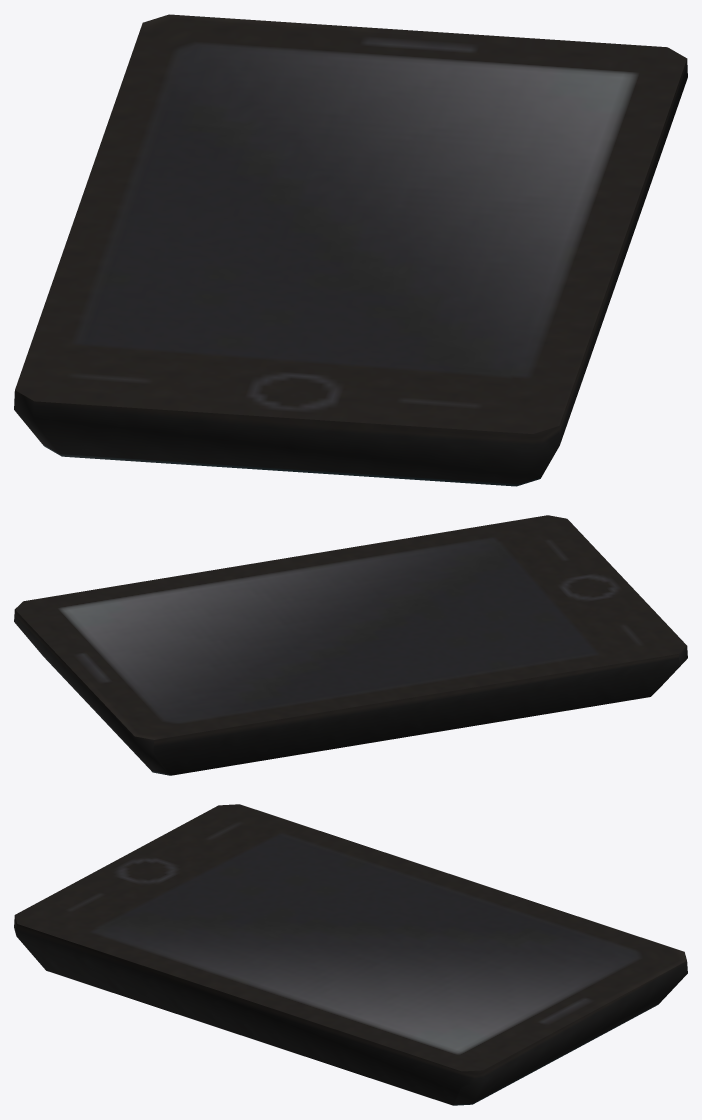
The model's file is XiuXiShi_01_shouji_01.FBX.
3 views of the same model, one above another, from view 1: azimuth 30°, elevation 25°; view 2: azimuth 150°, elevation 25°; view 3: azimuth 270°, elevation 25° (orthographic). The views are drawn at different scales.
Parts seen in each view (by area): view 1: XiuXiShi_shouji; view 2: XiuXiShi_shouji; view 3: XiuXiShi_shouji.
Boxes of the visible parts, x1,y1,x2,y2 form: XiuXiShi_shouji: (14,14,687,486); XiuXiShi_shouji: (14,515,687,775); XiuXiShi_shouji: (14,804,687,1105).
Size of the model in its own units: 102 by 8.59 by 108.
